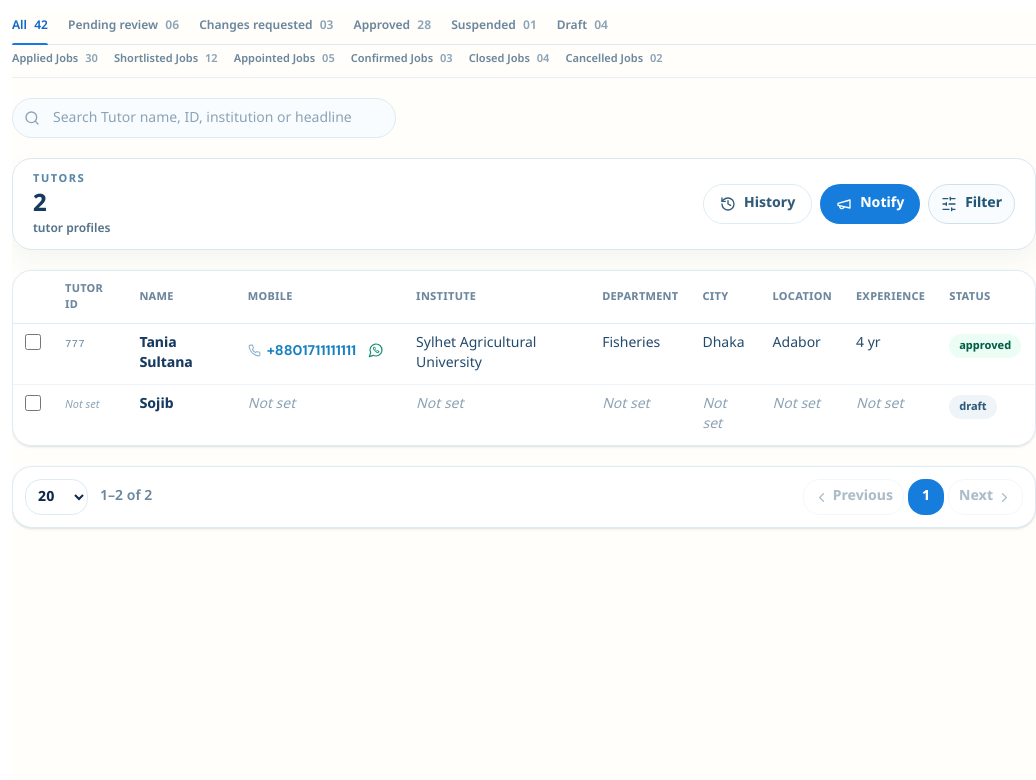
Test: the card and filter panel over the Tutors › asks for no options until the panel opens, then offers every box
The image size is (1036, 780).
Click the button "Filter": coordinates (972, 204) left=928, top=184, right=1015, bottom=224
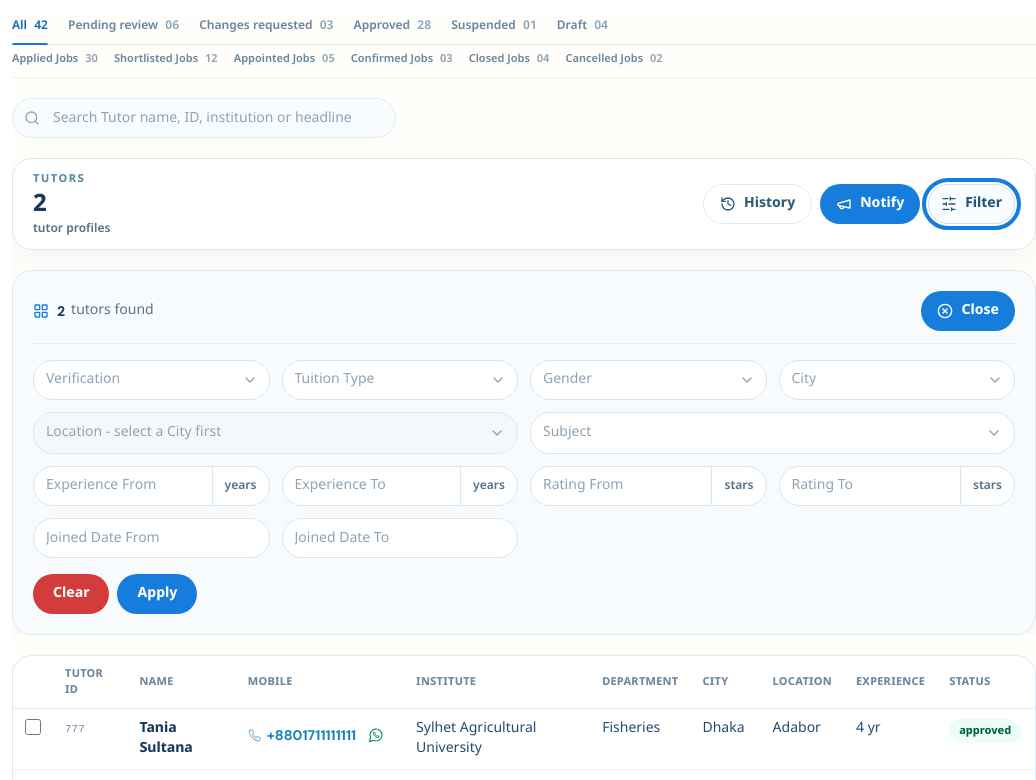
Check: the dropdown named "Verification" is shown, box left=33, top=360, right=270, bottom=400
Check: the dropdown named "Tuition Type" is shown, box left=282, top=360, right=518, bottom=400
Check: the dropdown named "Gender" is shown, box left=530, top=360, right=766, bottom=400
